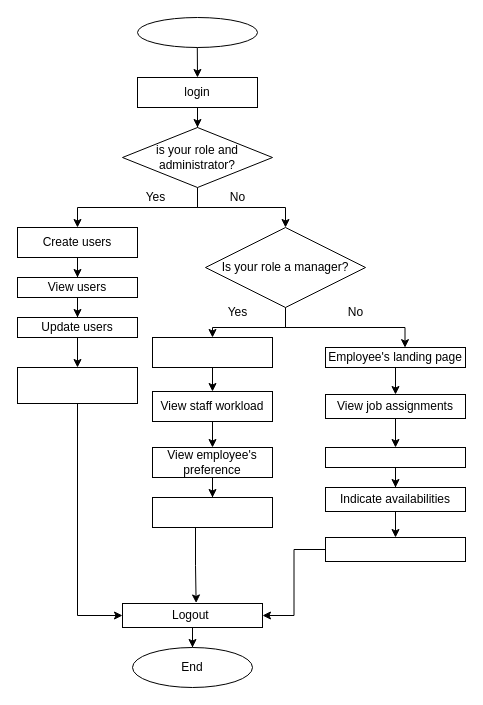
This 483x705 diagram has some shape labels left out. The centre of each missing label's shape, as x and y in pixels:
"Assign time slot for employees" goes at point (212, 512).
"Delete Users" goes at point (77, 385).
"Edit availabilities" goes at point (395, 457).
"Manager's landing page" goes at point (212, 352).
"Reject jobs" goes at point (395, 549).
"Start" goes at point (197, 32).
